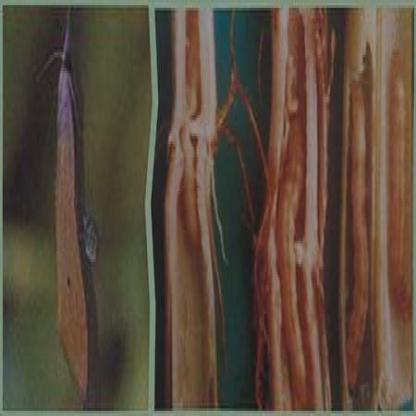stem-borer: (48, 0, 86, 406)
